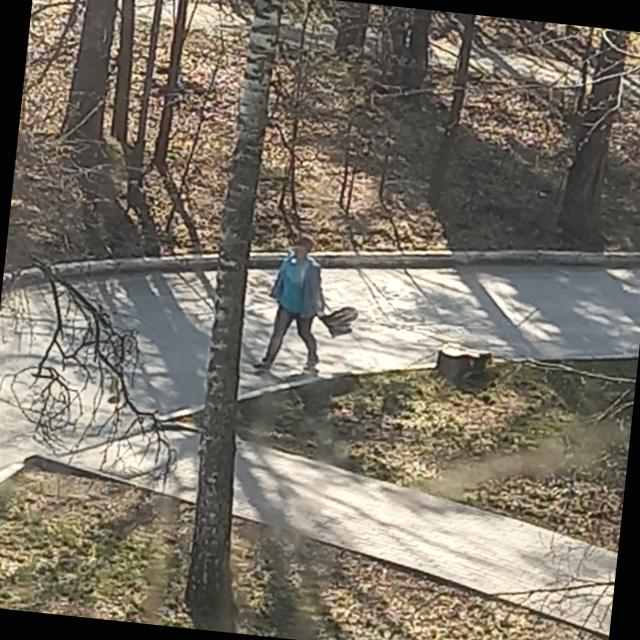person: (252, 230, 334, 376)
